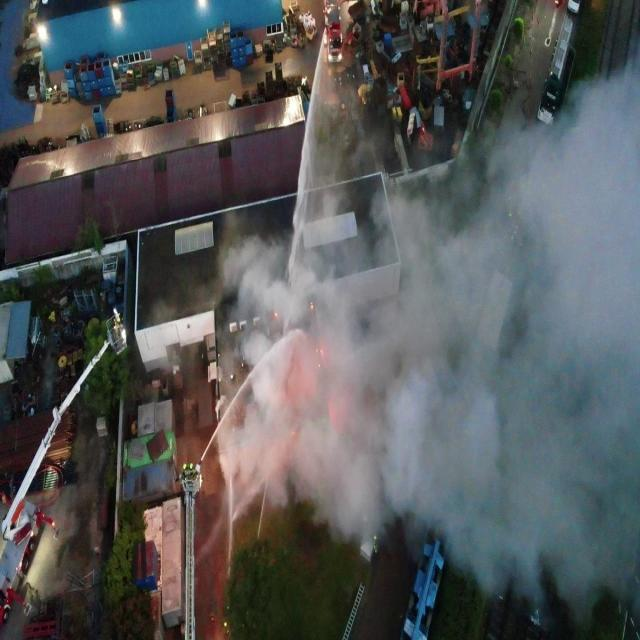Fire: (310, 302, 314, 309), (274, 312, 278, 316), (316, 348, 318, 352), (318, 364, 320, 368)
Smoke: (210, 36, 640, 632)
